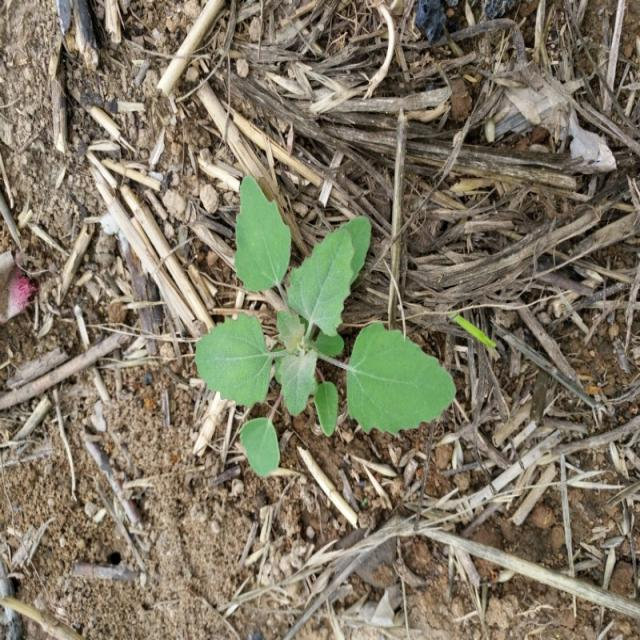ca: (196, 176, 456, 471)
